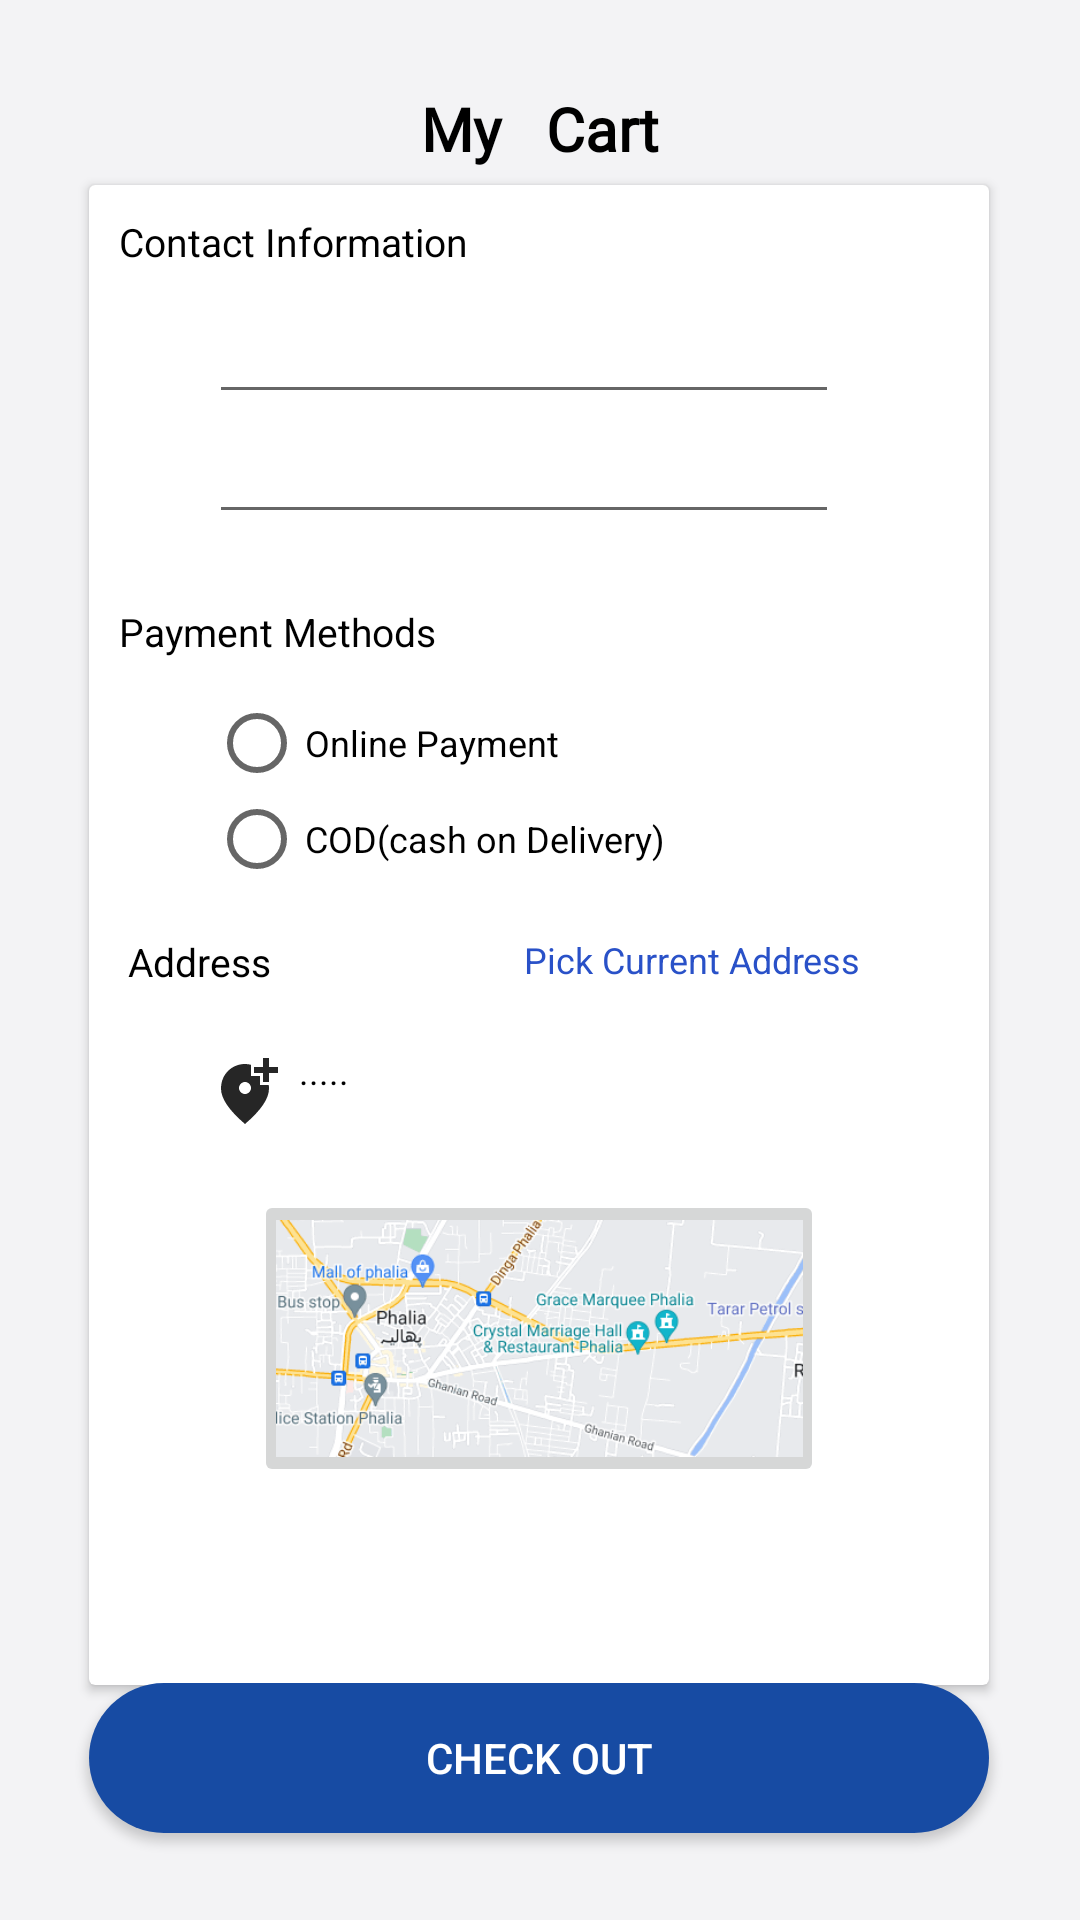

Icons on this 1080x1920 Android screen, each with its box as (left=x1, top=y1, right=x2, bottom=y2):
add location: (left=221, top=1058, right=278, bottom=1124)
